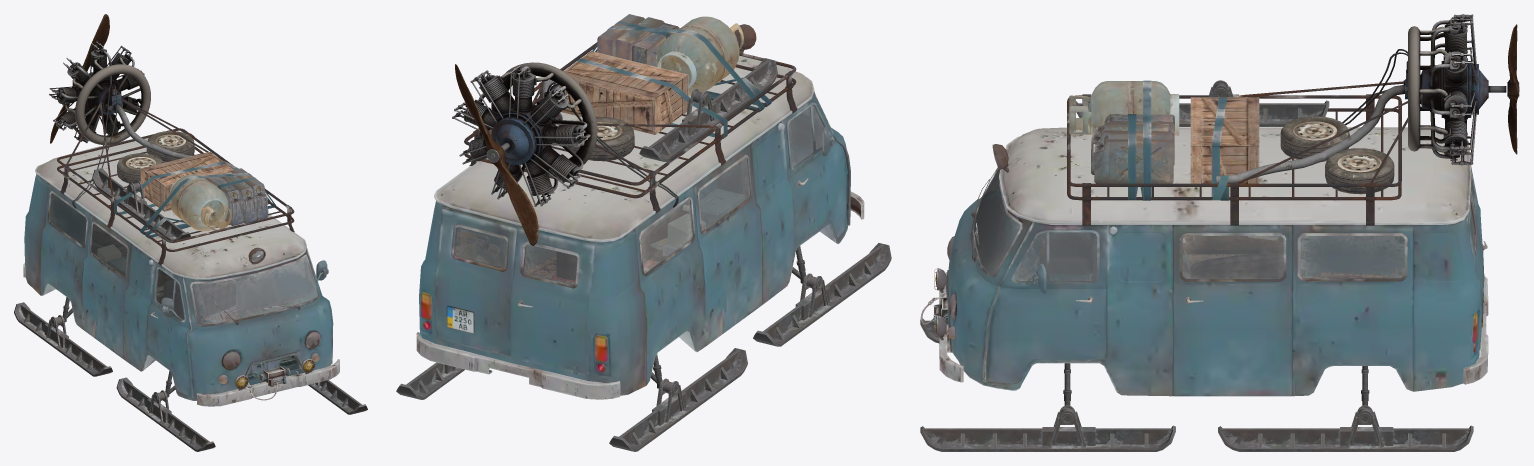
The model's file is snowcar.glb.
3 views of the same model, side by side, from view 1: azimuth 30°, elevation 25°; view 2: azimuth 150°, elevation 25°; view 3: azimuth 270°, elevation 25° (orthographic). The views are drawn at different scales.
Parts seen in each view (by area): view 1: car, engine, wheel2, doors1, wheel1, propeller; view 2: car, engine, wheel2, propeller; view 3: car, doors1, engine, wheel1, propeller.
Part boxes in pixels (box(x1,y1,x2,y2)): car: box(14, 84, 339, 406); engine: box(49, 41, 150, 145); wheel2: box(116, 377, 215, 451); doors1: box(287, 259, 328, 302); wheel1: box(308, 380, 367, 414); propeller: box(50, 14, 109, 143); car: box(396, 14, 864, 451); engine: box(452, 62, 597, 206); wheel2: box(753, 242, 891, 346); propeller: box(455, 64, 538, 245); car: box(920, 49, 1488, 451); doors1: box(985, 222, 1107, 383); engine: box(1405, 14, 1506, 165); wheel1: box(920, 401, 1175, 451); propeller: box(1507, 24, 1519, 154).
Bounding box in the file's own units: 2.55 × 3.88 × 5.46.
7 materials, 7 textured.
